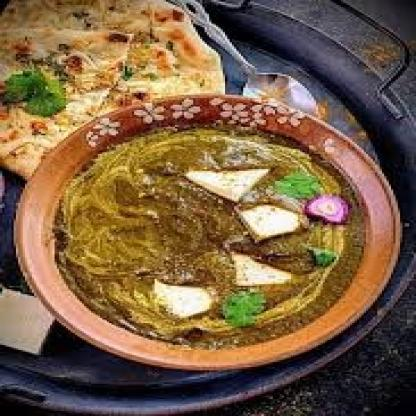palak_paneer: (53, 128, 364, 349)
